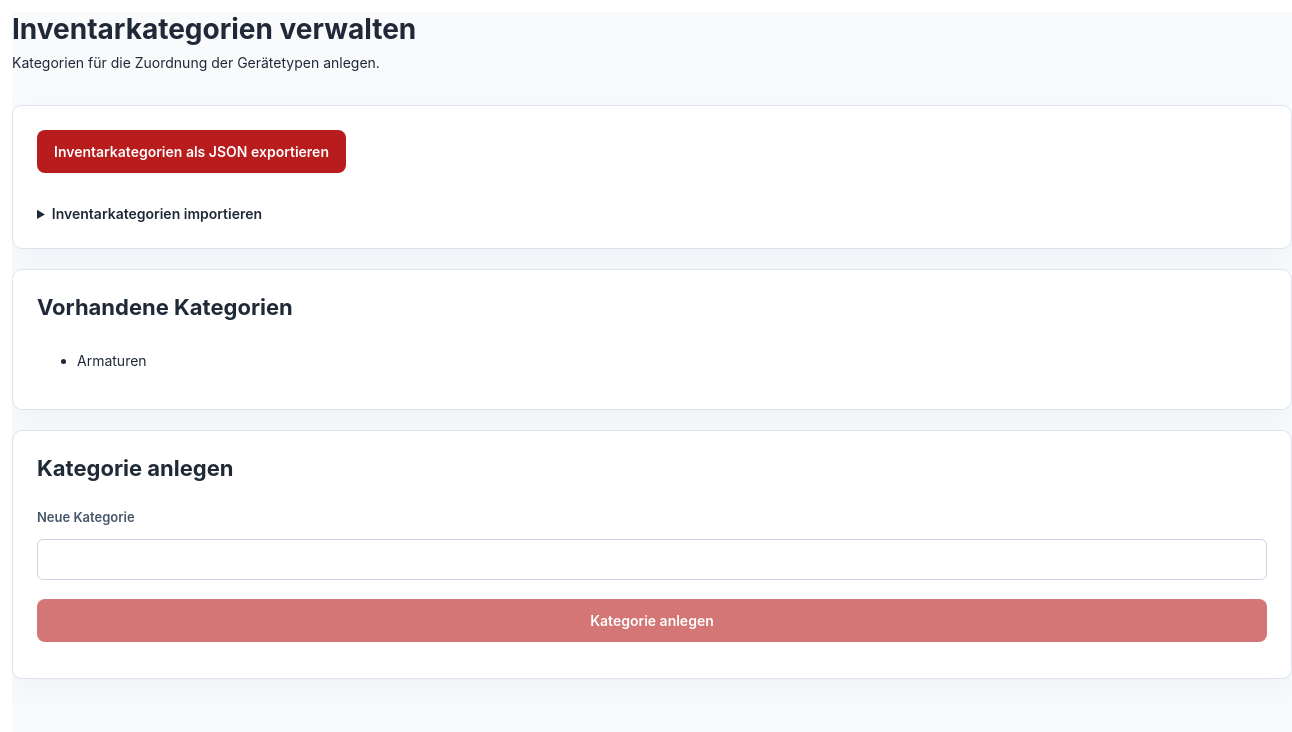
Scenario: shows existing categories and lets an administrator create another on the dedicated page
Check: the list item "Armaturen" is shown, box [77, 352, 147, 368]
Type " Werkzeug " into the field labelled "Neue Kategorie". click: (652, 559)
box: [37, 538, 1267, 580]
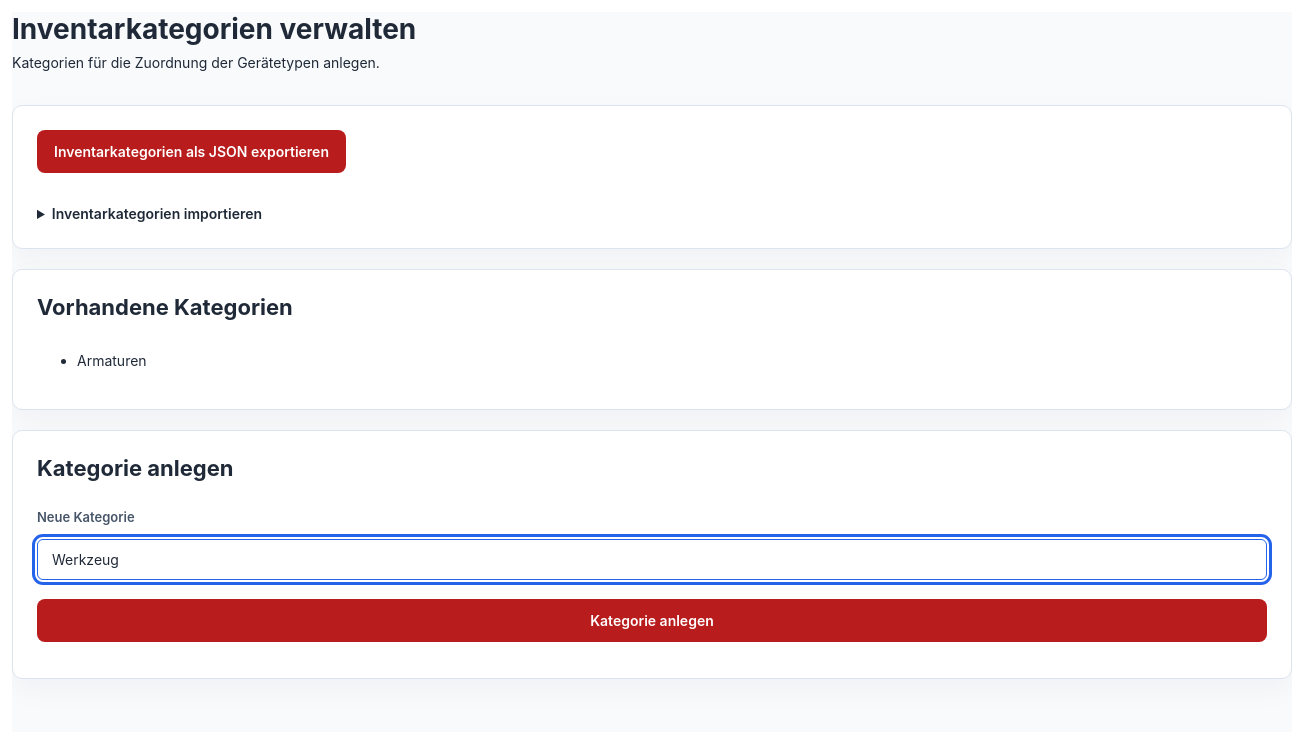
Click the button "Kategorie anlegen". click: click(652, 620)
box: [37, 598, 1267, 642]
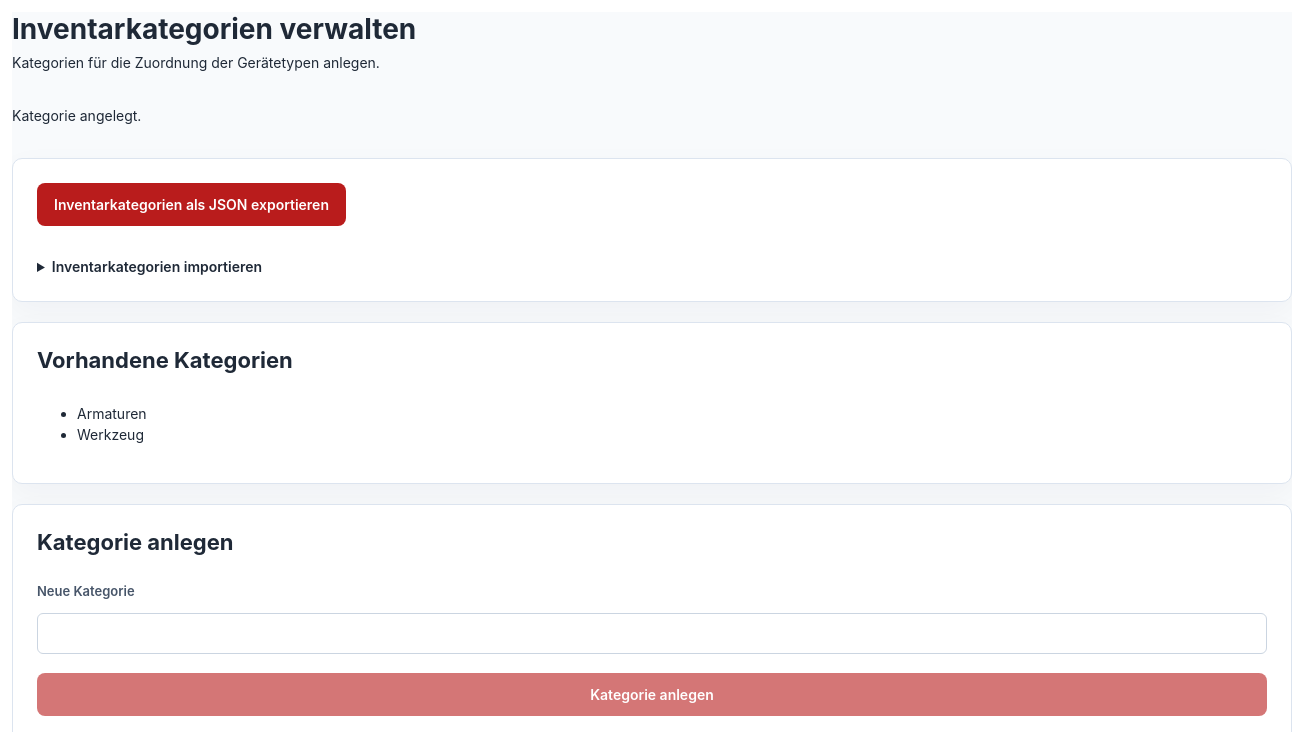
Check: the list item "Werkzeug" is shown, box [77, 426, 144, 442]
Check: the field labelled "Neue Kategorie" is empty, box [37, 612, 1267, 654]
